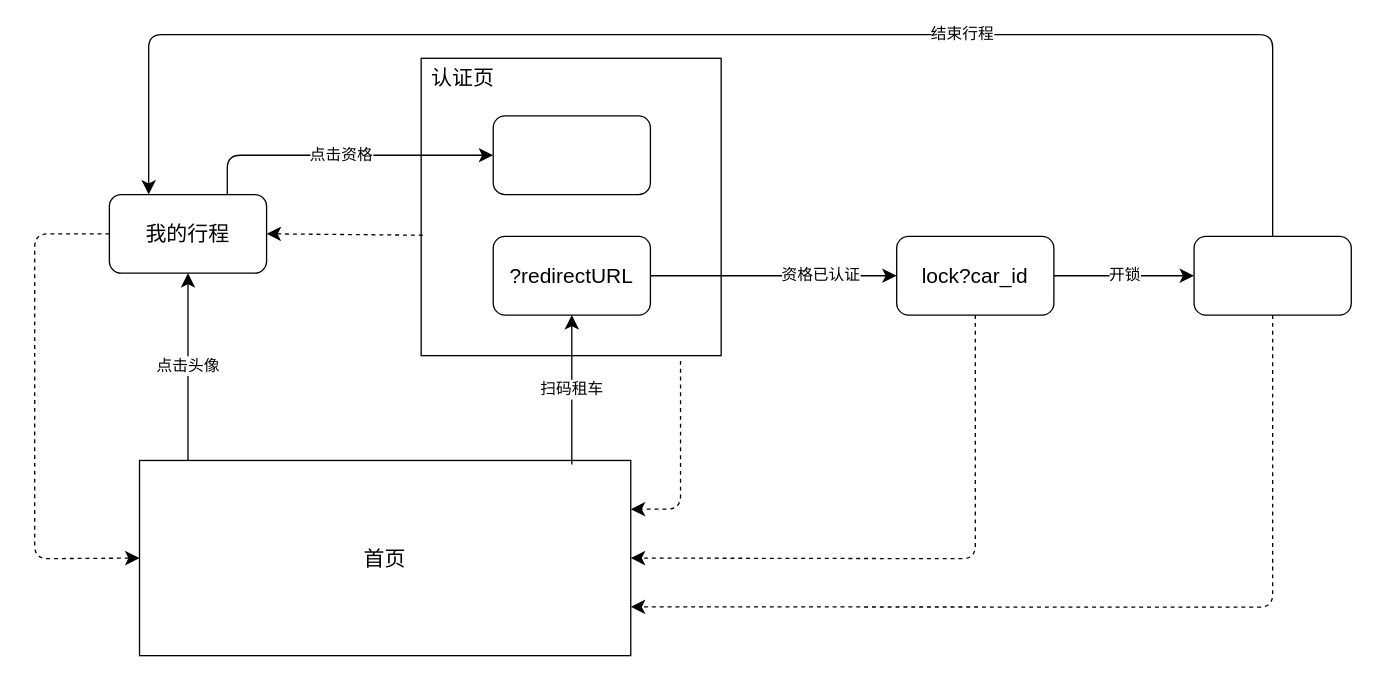
Some shapes in this 1374 by 679 pixel diagram are drawn without their labels. The shapes that lost their labels are listed below. From the top down, each one's centre as x and y in pixels, then its label:
At point 571,155: "noredirect".
At point 1272,275: "driving?trip_id".
